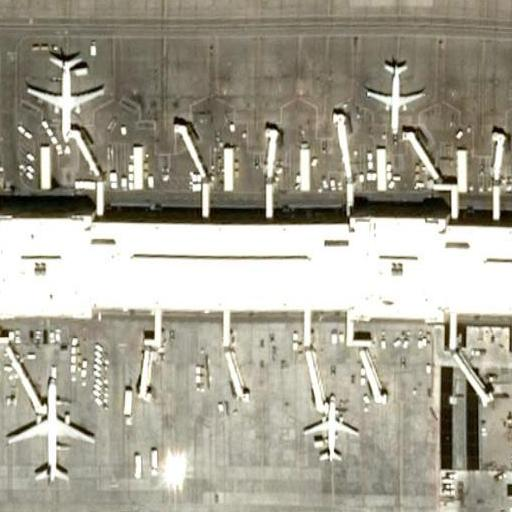Aircraft: (4, 381, 95, 486), (24, 45, 106, 137), (359, 58, 423, 140), (297, 391, 362, 465)
